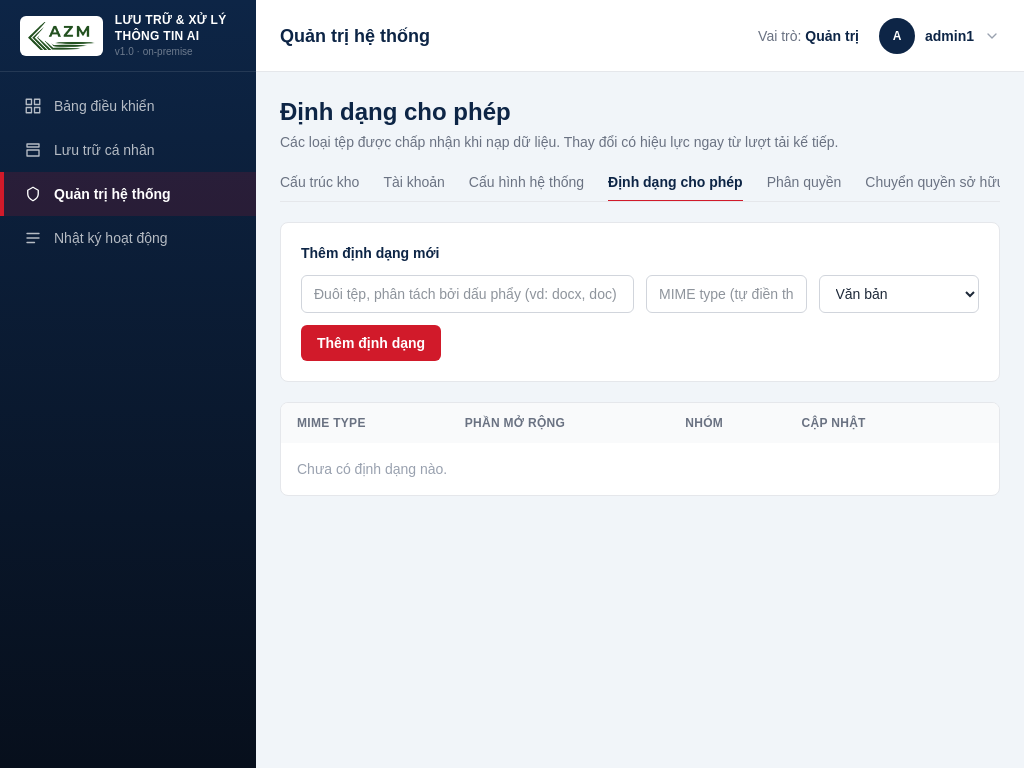
AllowedFormatsPage › validates the create form before submitting
This screenshot has width=1024, height=768.
Expected: the text "Chưa có định dạng nào." is shown, [281, 443, 999, 495]
Click the button "Thêm định dạng".
click(371, 343)  # box [301, 325, 441, 361]
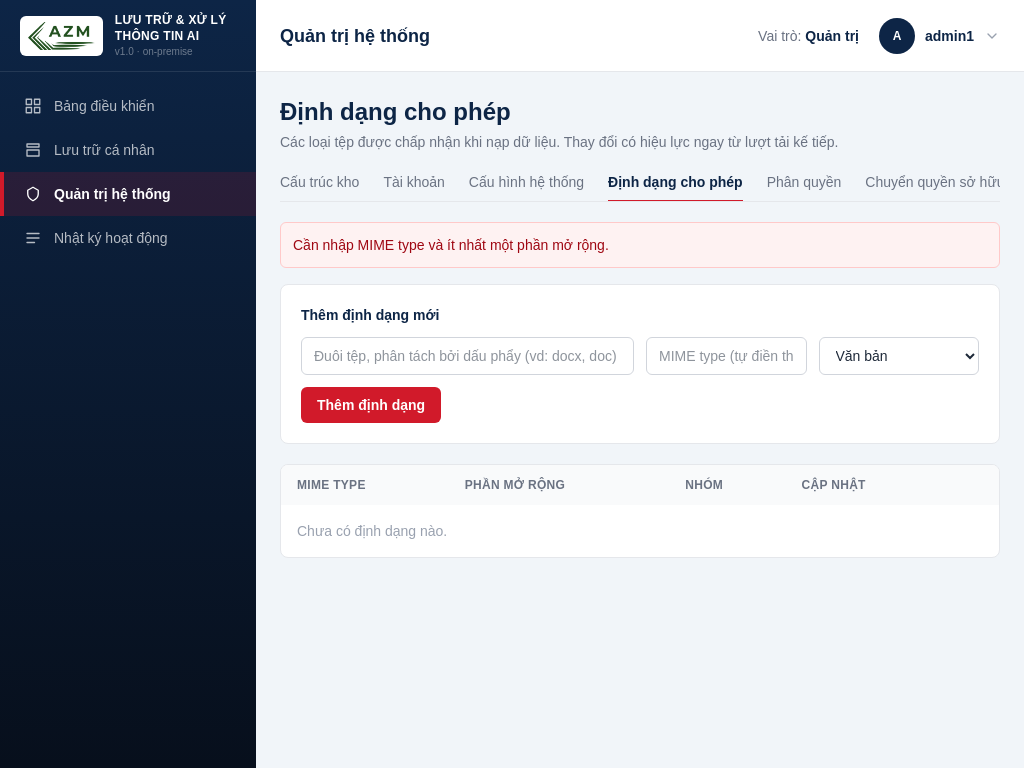
Now the text "Cần nhập MIME type và ít nhất một phần mở rộng." is shown, box [280, 222, 1000, 268]
